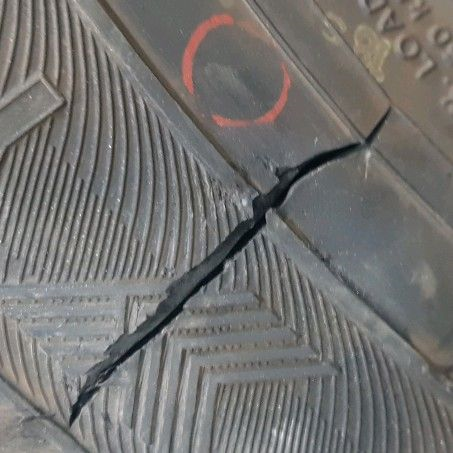cut: (66, 99, 396, 434)
